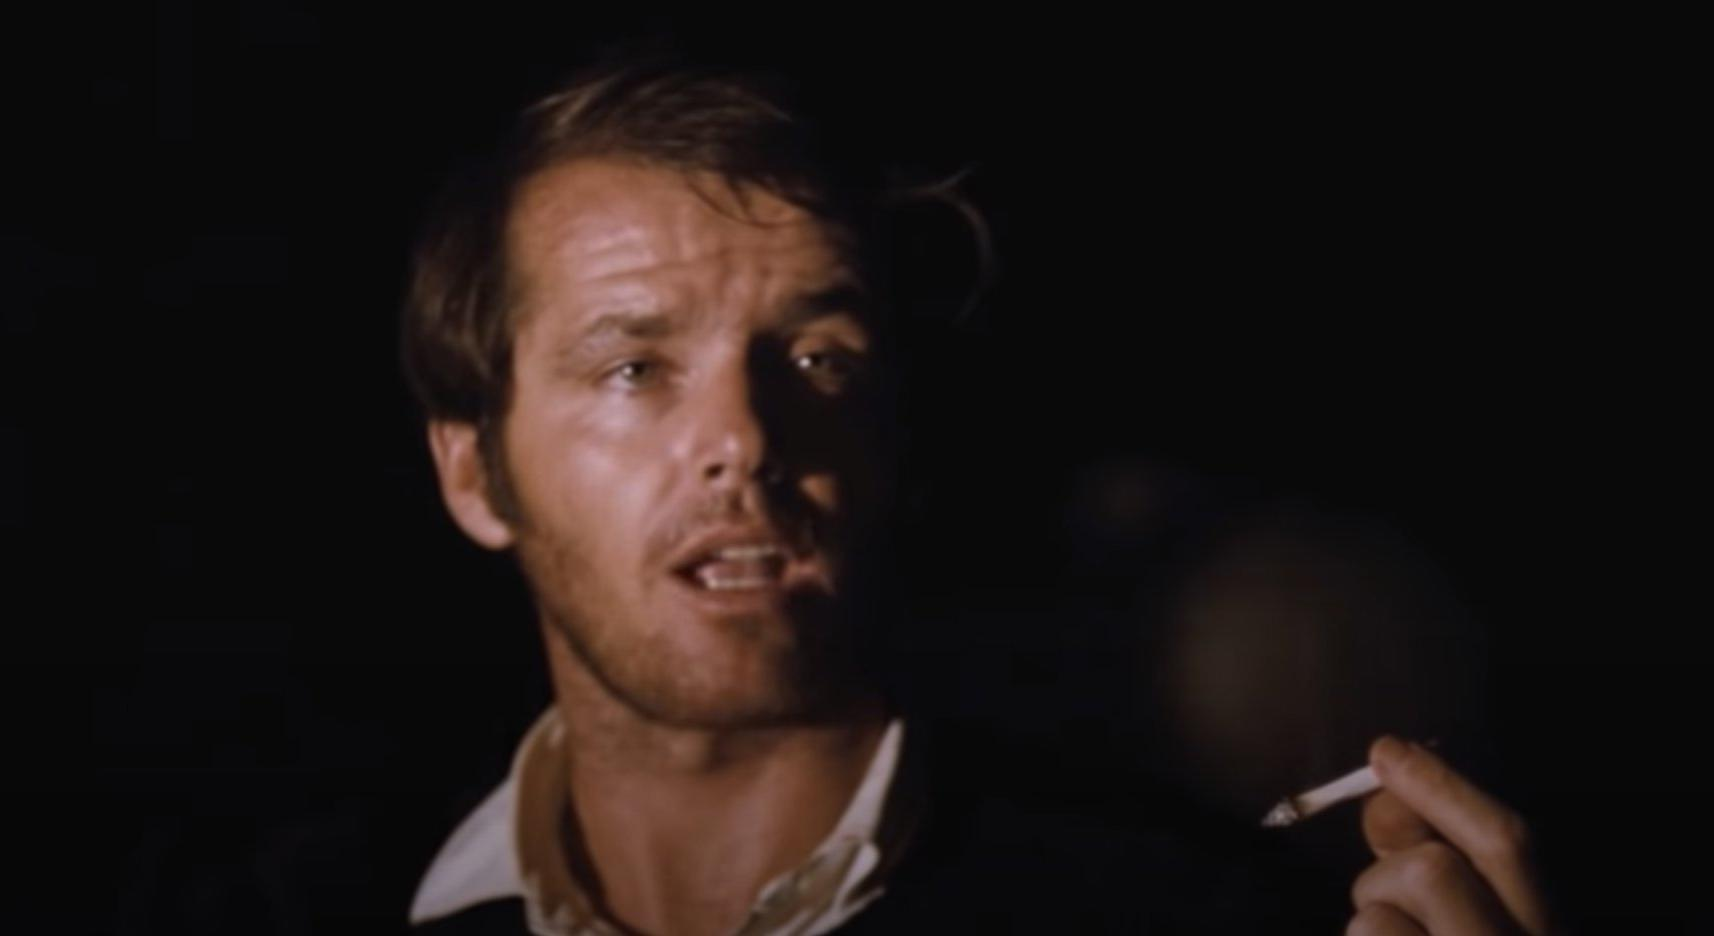Drunk: (541, 182, 883, 714)
